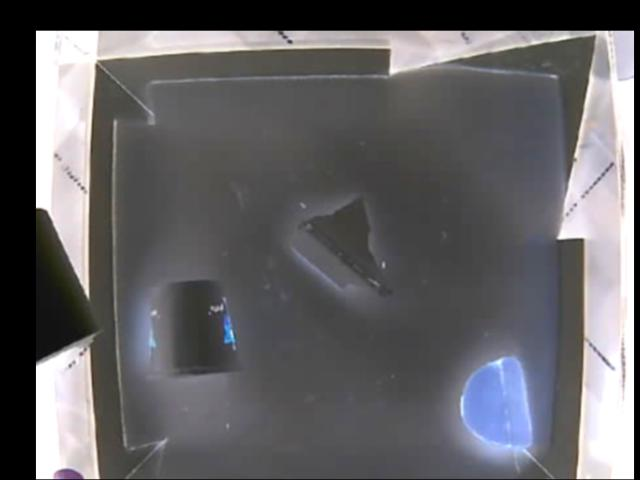China: (291, 197, 388, 300)
Cup: (144, 278, 243, 377)
Potato: (458, 355, 532, 448)
